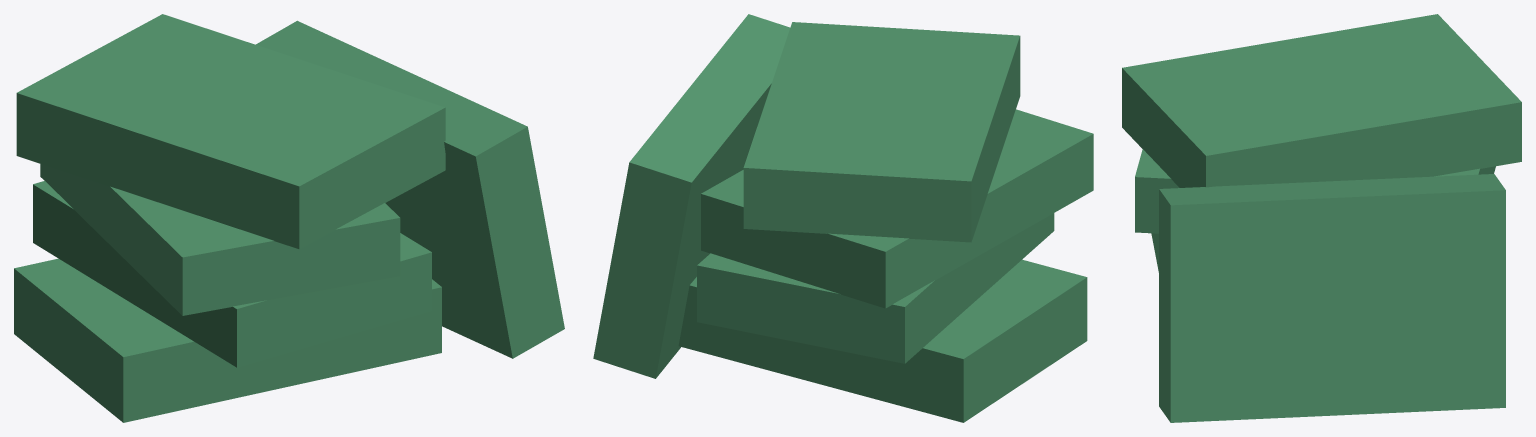
Rendered from Books_Stack_V2.fbx.
3 views of the same model, side by side, from view 1: azimuth 30°, elevation 25°; view 2: azimuth 150°, elevation 25°; view 3: azimuth 270°, elevation 25° (orthographic). The views are drawn at different scales.
Visible parts, largest first — view 1: Books_Stack; view 2: Books_Stack; view 3: Books_Stack.
Boxes of the visible parts, left/top/right/bottom form: Books_Stack: left=14, top=14, right=564, bottom=422; Books_Stack: left=593, top=14, right=1093, bottom=422; Books_Stack: left=1122, top=14, right=1521, bottom=422.
Bounding box in the file's own units: 87.6 × 51.37 × 77.32.
